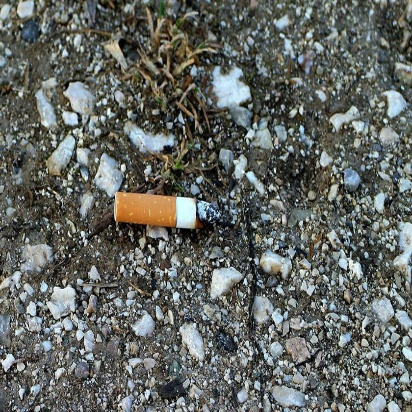cigarette: (106, 190, 231, 235)
